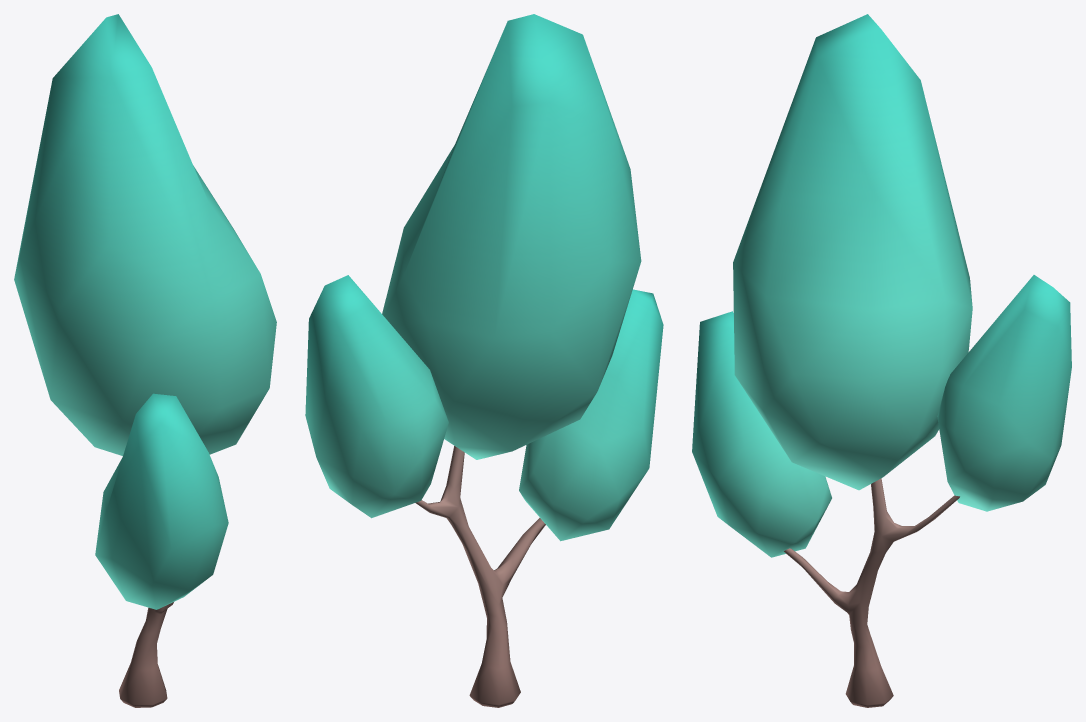
File: Tree01_M_Blue.fbx
3 views of the same model, side by side, from view 1: azimuth 30°, elevation 25°; view 2: azimuth 150°, elevation 25°; view 3: azimuth 270°, elevation 25° (orthographic). The views are drawn at different scales.
Parts seen in each view (by area): view 1: Tree01_M_Blue; view 2: Tree01_M_Blue; view 3: Tree01_M_Blue.
Boxes of the visible parts, x1=… form: Tree01_M_Blue: x1=14, y1=14, x2=276, y2=707; Tree01_M_Blue: x1=305, y1=14, x2=663, y2=707; Tree01_M_Blue: x1=692, y1=14, x2=1071, y2=707.
Bounding box in the file's own units: 5.18 × 15.11 × 7.79.
